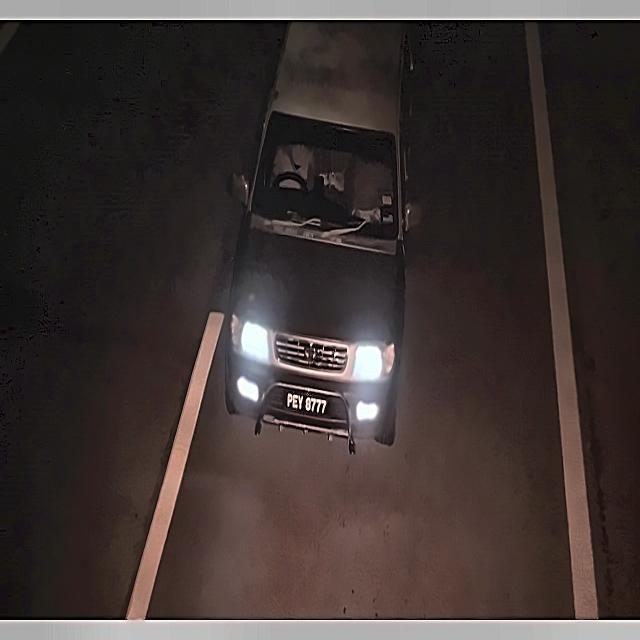car: (280, 382, 334, 422)
